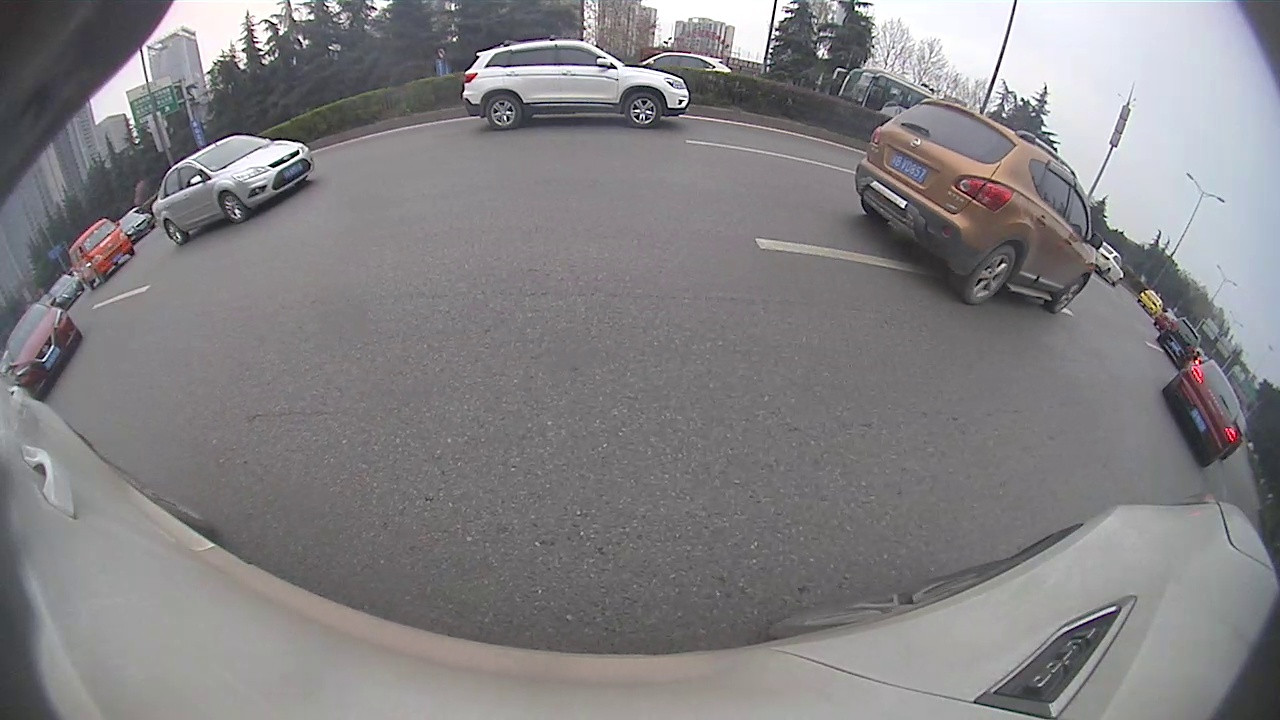car: (853, 97, 1104, 314), (461, 38, 691, 131), (150, 133, 316, 245), (1163, 357, 1240, 469), (3, 301, 85, 400), (68, 216, 137, 290), (1159, 314, 1203, 370), (1098, 243, 1126, 289)
front: (624, 91, 663, 130), (1049, 280, 1084, 318), (219, 192, 249, 225)
rear: (965, 242, 1017, 306), (487, 94, 523, 131), (165, 222, 186, 247)
